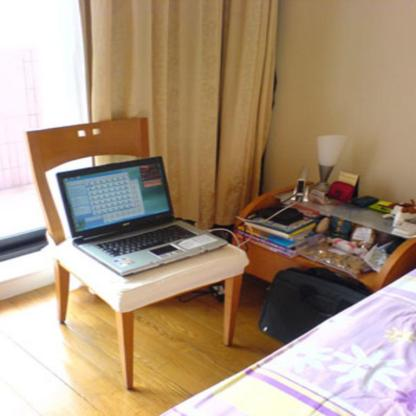board: (57, 154, 227, 276)
